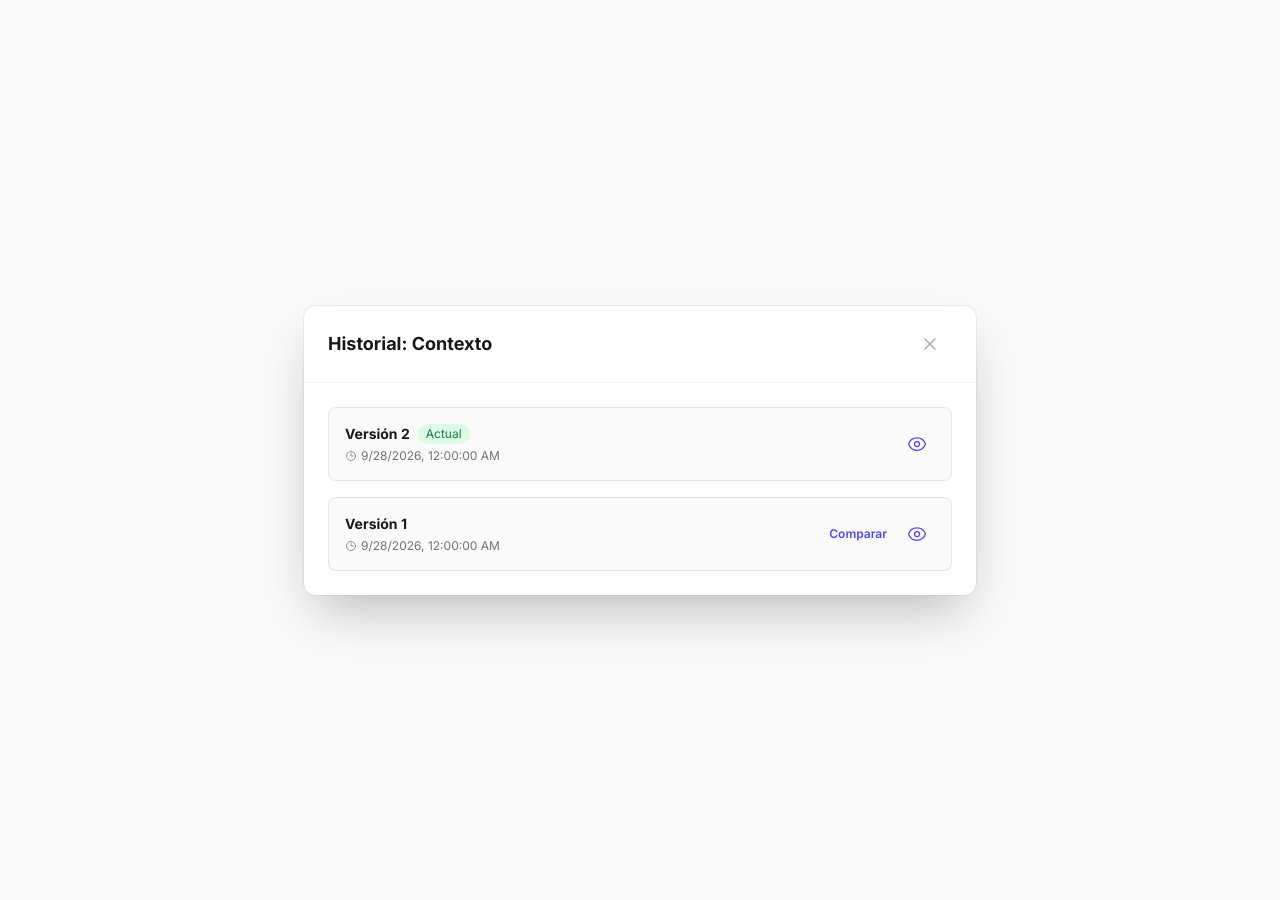
Test case: RealArtifactHistoryModal — comparar › reordenar el Mermaid sin cambiar el diagrama no es un cambio
Step 1. Click the button "Comparar" → {"x": 858, "y": 534}, box [821, 520, 895, 548]
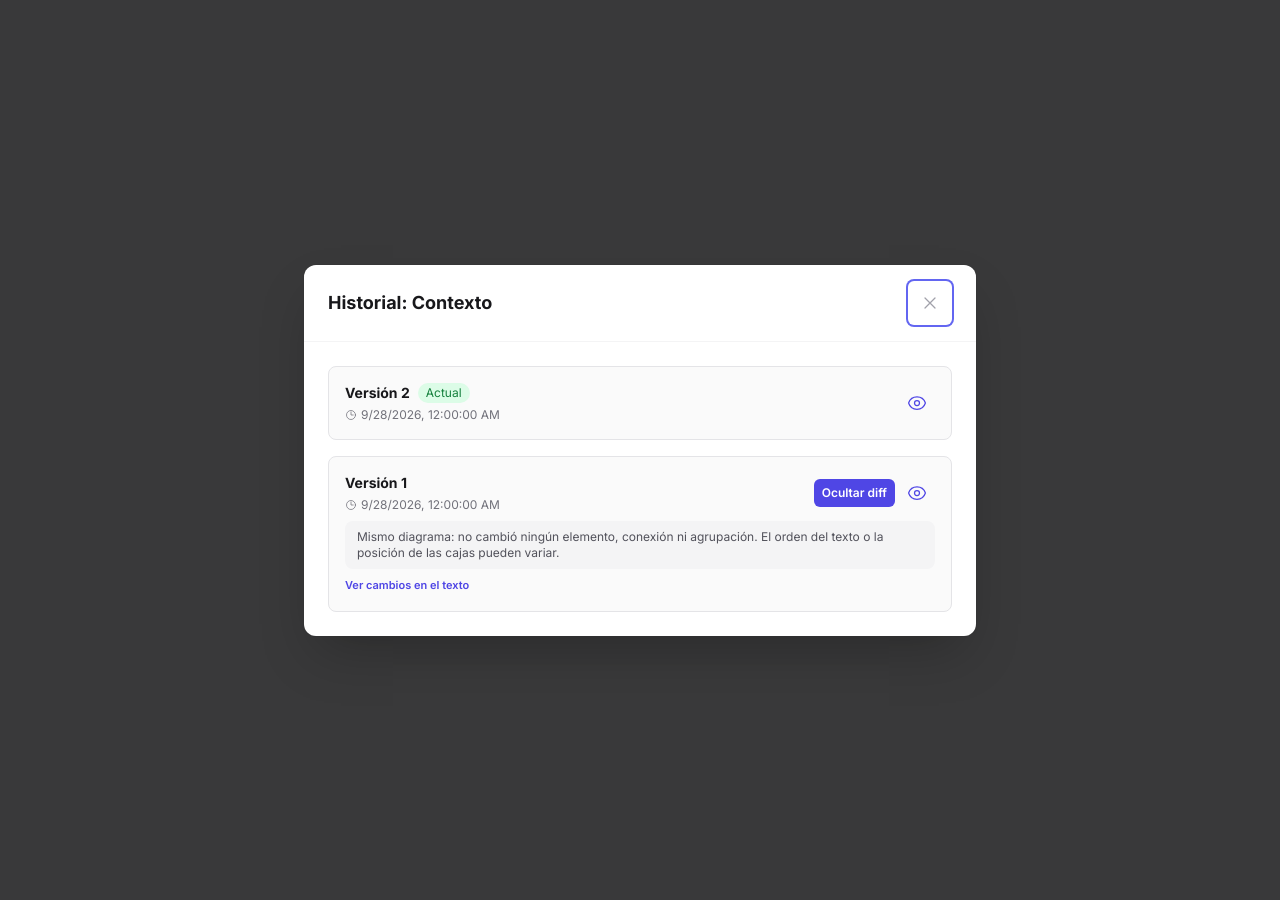
Check: the text "Mismo diagrama" is shown, box [357, 528, 883, 560]
